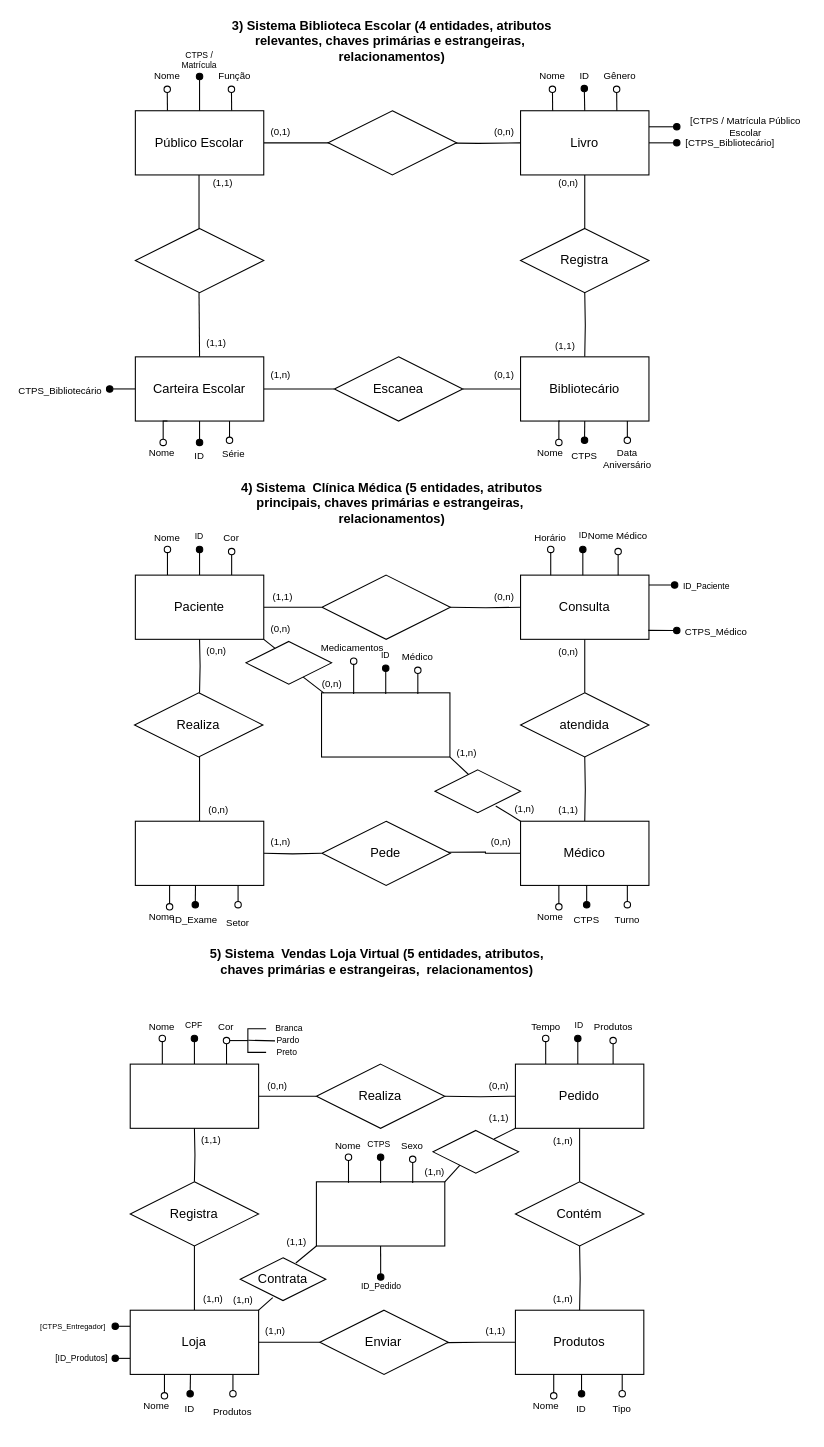
Image size: 824x1447. Some labels were removed from this diagram. The shapes that lost their labels are listed below. From the top down, each one's box as (x1, y1, x2, y2) in pixels, then its label:
(327, 110, 457, 175): Aluga
(134, 227, 264, 293): Identifica
(321, 574, 450, 639): passa
(245, 640, 332, 684): Recebe
(320, 692, 450, 757): Receita
(434, 769, 521, 813): Prescreve
(134, 820, 264, 885): Exame
(129, 1063, 259, 1128): Cliente
(432, 1129, 519, 1173): entrega
(315, 1181, 445, 1246): Entregador
